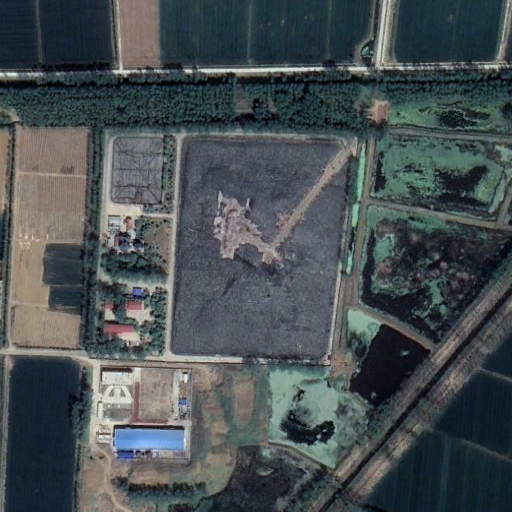lf: (172, 136, 353, 359)
